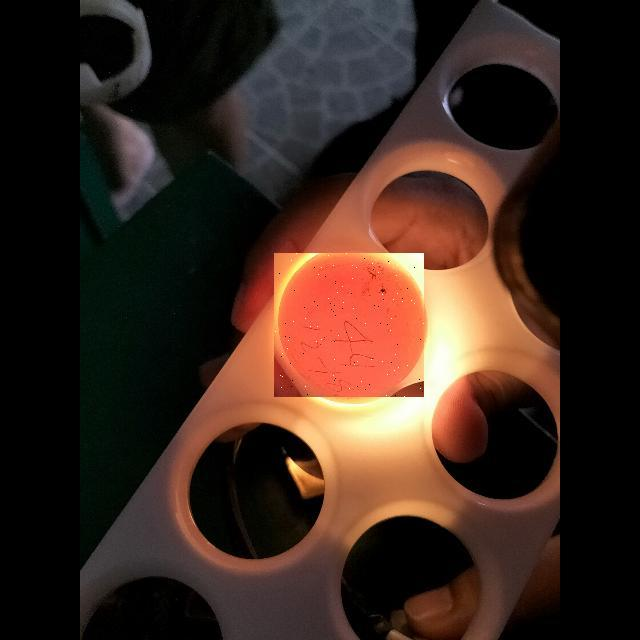Infertile: (274, 253, 424, 397)
